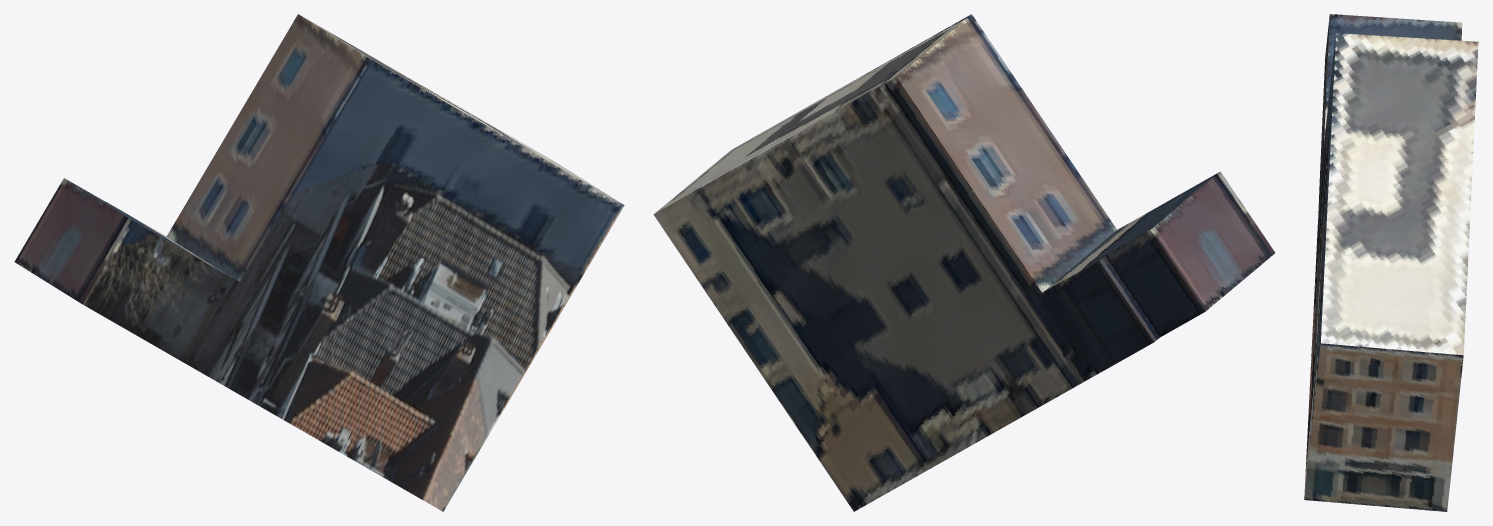
The picture shows the model from 3 angles, left to right: view 1: azimuth 30°, elevation 25°; view 2: azimuth 150°, elevation 25°; view 3: azimuth 270°, elevation 25°; orthographic projection. The views are drawn at different scales.
Visible parts, largest first — view 1: BAG_0599100000671694 (×4); view 2: BAG_0599100000671694 (×5); view 3: BAG_0599100000671694 (×4).
Boxes of the visible parts, x1,y1,x2,y2 form: BAG_0599100000671694 (×4): (14,14,624,511); BAG_0599100000671694 (×5): (653,14,1275,511); BAG_0599100000671694 (×4): (1304,14,1478,511).
Size of the model in its own units: 27.11 by 22.15 by 7.77.
Materials: 6 (6 with a texture image).
